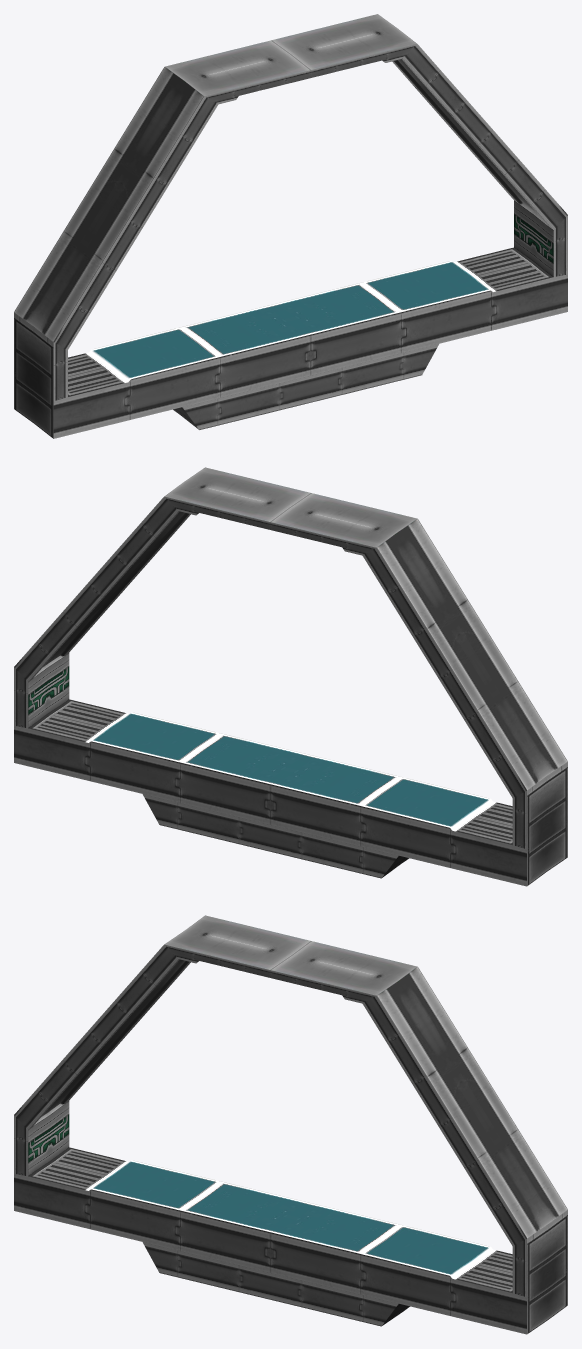
The model's file is ARC1110019.fbx.
3 views of the same model, one above another, from view 1: azimuth 30°, elevation 25°; view 2: azimuth 150°, elevation 25°; view 3: azimuth 330°, elevation 25° (orthographic).
Parts seen in each view (by area): view 1: smARC1110019; view 2: smARC1110019; view 3: smARC1110019.
Part boxes in pixels (x1=…): smARC1110019: x1=14, y1=14, x2=567, y2=438; smARC1110019: x1=14, y1=467, x2=567, y2=886; smARC1110019: x1=14, y1=915, x2=567, y2=1334.
Size of the model in its own units: 530 by 326 by 74.58.
1 material, 1 textured.
